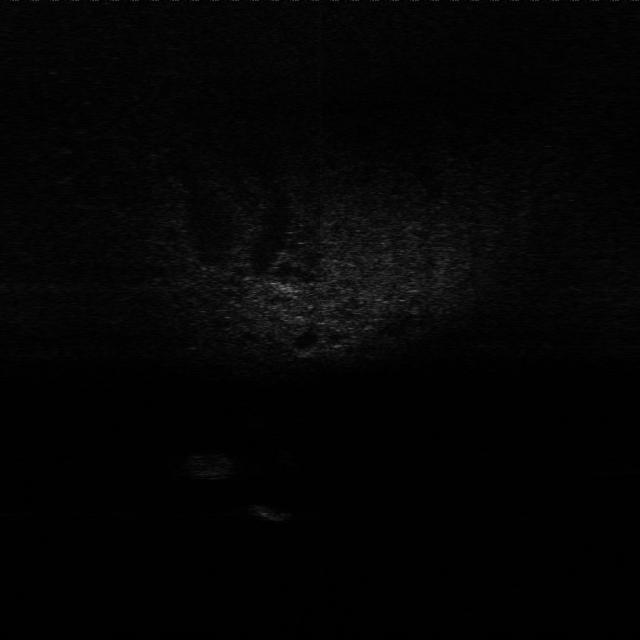circle cage: (187, 445, 238, 480)
cylinder: (246, 496, 296, 526)
